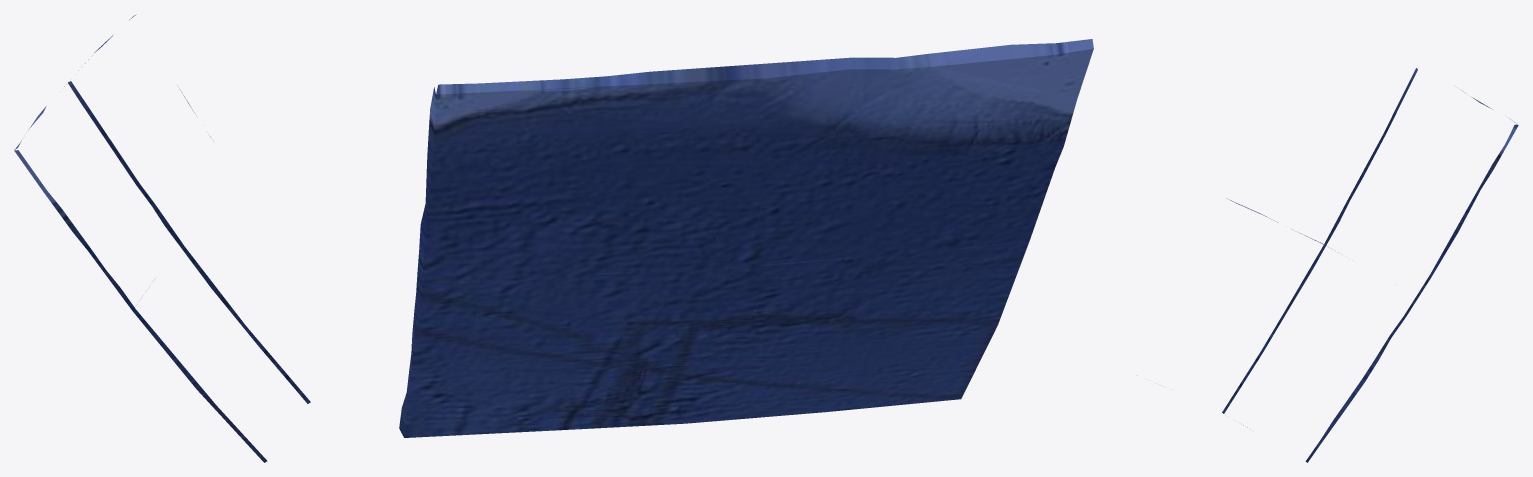
3 views of the same model, side by side, from view 1: azimuth 30°, elevation 25°; view 2: azimuth 150°, elevation 25°; view 3: azimuth 270°, elevation 25° (orthographic). The views are drawn at different scales.
Bounding box in the file's own units: 1265435 × 984597 × 1242297.
Materials: 1 (1 with a texture image).
